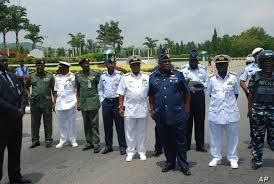uniform: (153, 65, 186, 164), (78, 67, 104, 150), (254, 69, 274, 172), (27, 71, 53, 147)
